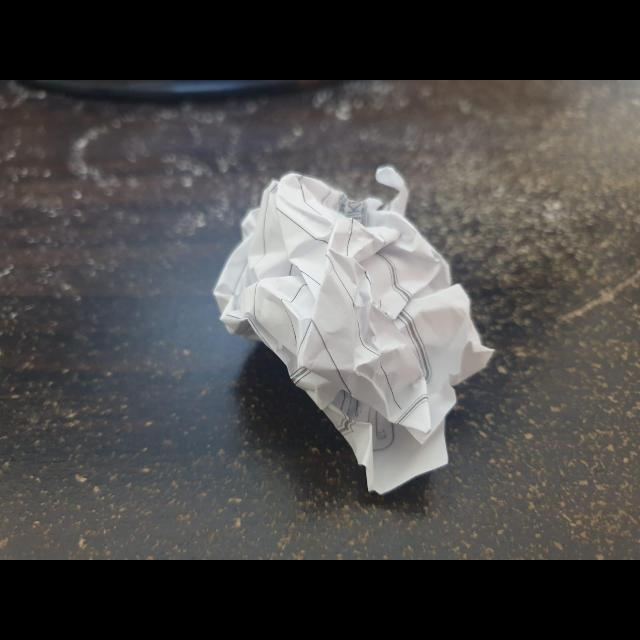trash: (214, 159, 502, 493)
